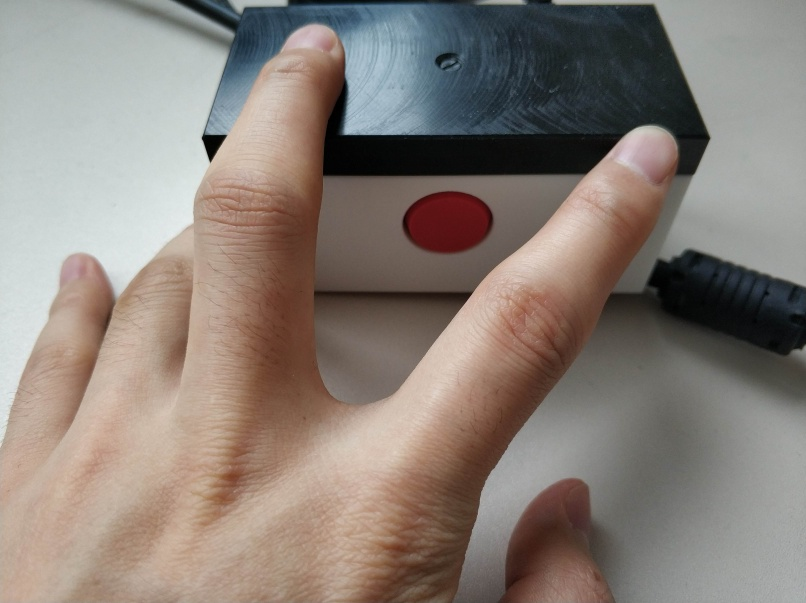black+white+red: (200, 3, 712, 298)
